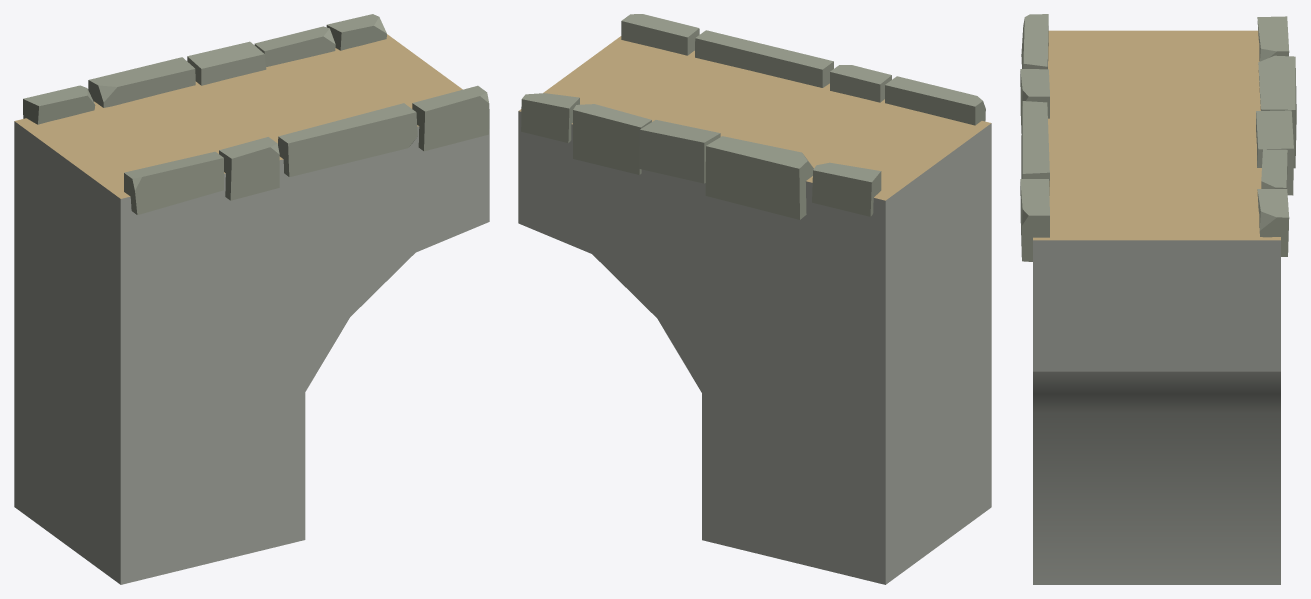
File: bridge_half_1x2.fbx
3 renders of one model, left to right at view 1: azimuth 30°, elevation 25°; view 2: azimuth 150°, elevation 25°; view 3: azimuth 270°, elevation 25°, orthographic. The views are drawn at different scales.
Visible parts, largest first — view 1: bridge_half_1x2; view 2: bridge_half_1x2; view 3: bridge_half_1x2.
Part boxes in pixels (x1,y1,x2,y2): bridge_half_1x2: [14, 14, 489, 584]; bridge_half_1x2: [518, 14, 991, 584]; bridge_half_1x2: [1020, 14, 1296, 584].
Bounding box in the file's own units: 10 × 5.57 × 10.52.
